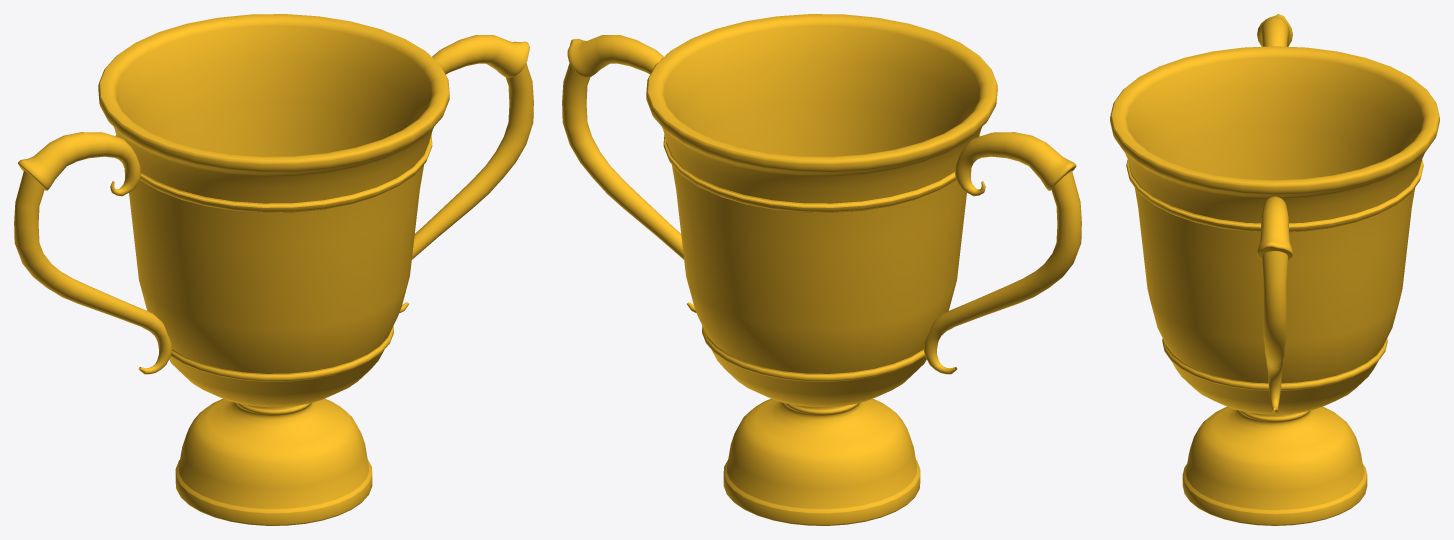
File: trophy.glb
3 renders of one model, left to right at view 1: azimuth 30°, elevation 25°; view 2: azimuth 150°, elevation 25°; view 3: azimuth 270°, elevation 25°, orthographic. The views are drawn at different scales.
Parts seen in each view (by area): view 1: JinBei_001; view 2: JinBei_001; view 3: JinBei_001.
Part boxes in pixels (<box>): JinBei_001: <box>14,14,533,525</box>; JinBei_001: <box>562,14,1081,525</box>; JinBei_001: <box>1110,14,1439,525</box>.
Size of the model in its own units: 6.04 by 4.46 by 3.57.
Materials: 1 (1 with a texture image).
